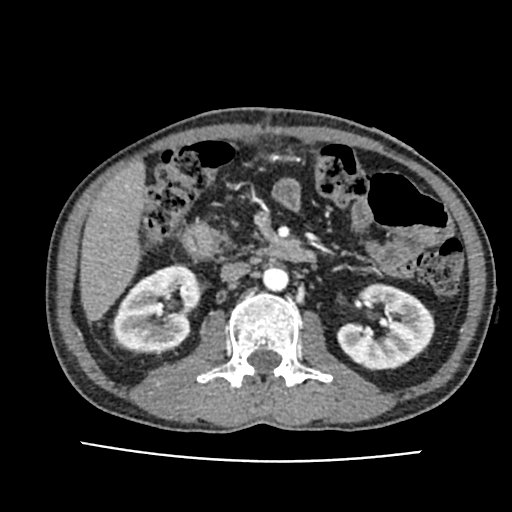aorta: (263, 289, 267, 292)
